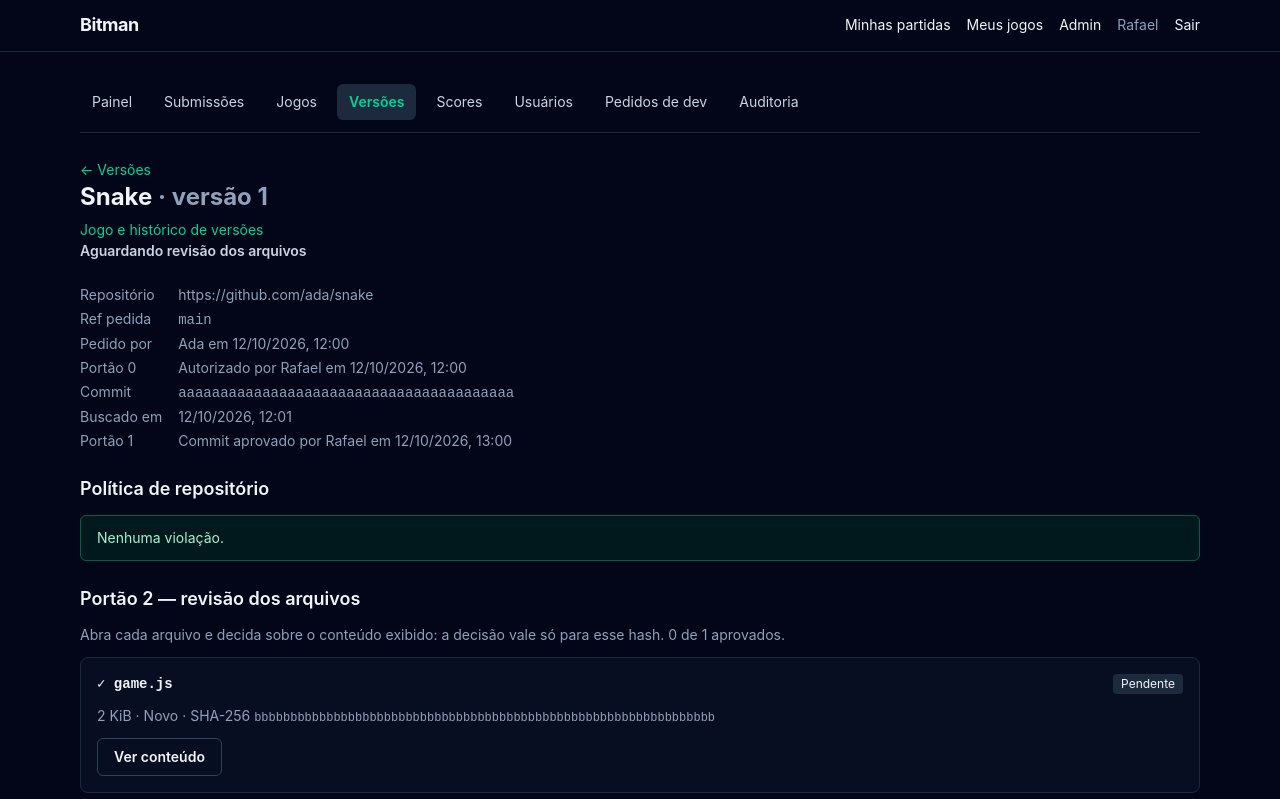
VersionPage › Portão 2 › marca caracteres invisíveis e bidirecionais (Trojan Source)
Click the button "Ver conteúdo".
click(159, 757)  # box [97,738,222,776]
(page scrolled)
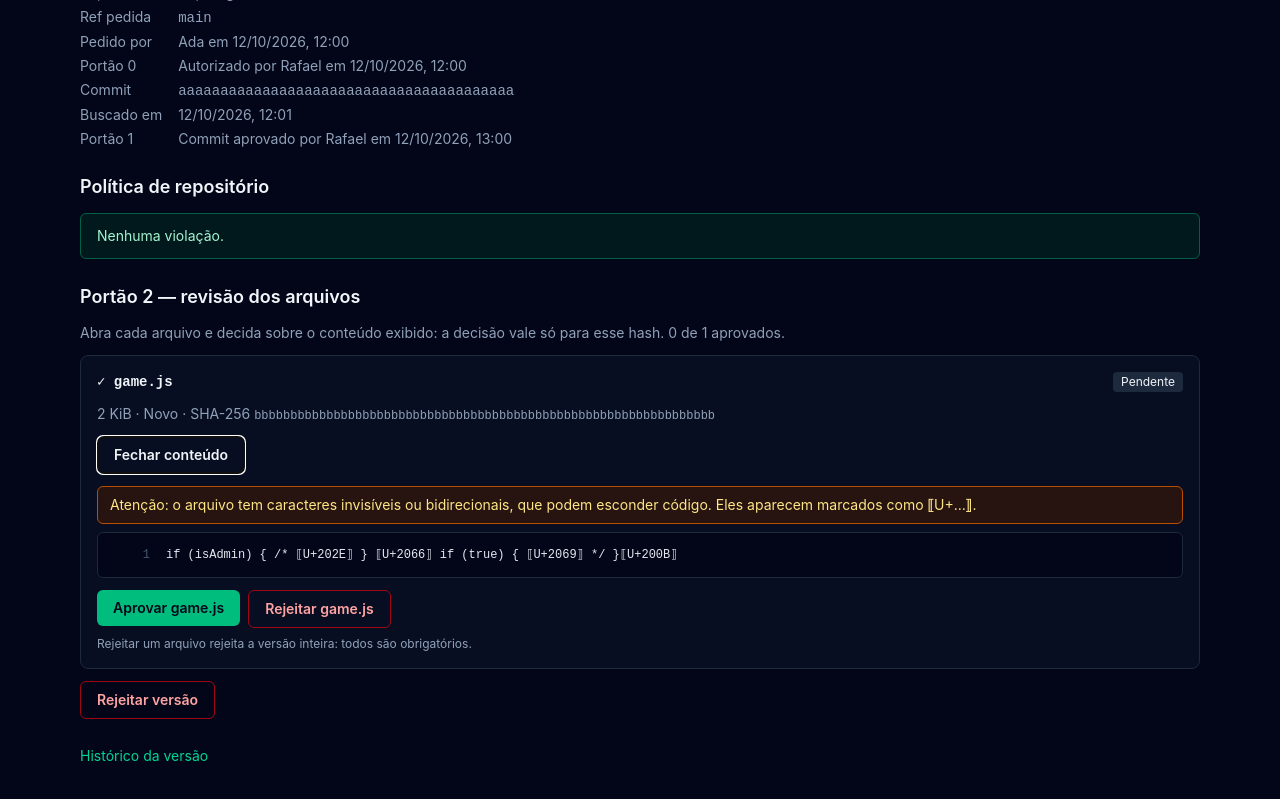
Check: the text "caracteres invisíveis ou bidirecionais" is shown, box [110,496,976,513]
Check: the element named "Conteúdo de game.js" shows "⟦U+202E⟧", box [166,548,678,562]
Check: the element named "Conteúdo de game.js" shows "⟦U+2066⟧", box [166,548,678,562]
